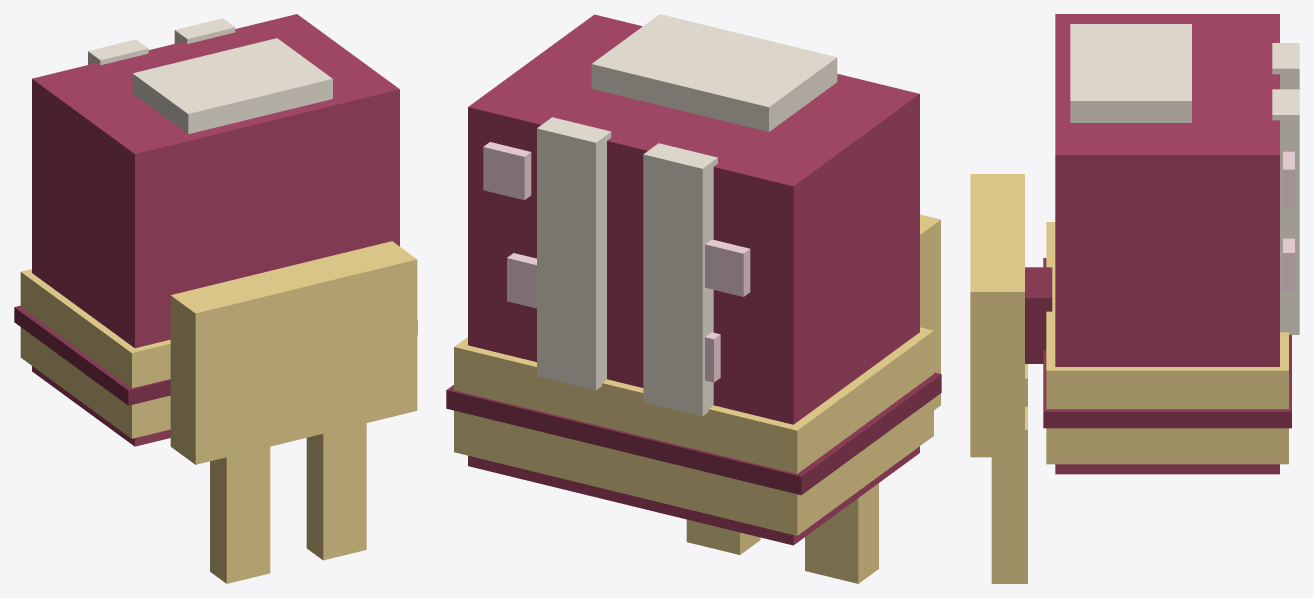
File: furisode_tronco.glb
3 renders of one model, left to right at view 1: azimuth 30°, elevation 25°; view 2: azimuth 150°, elevation 25°; view 3: azimuth 270°, elevation 25°, orthographic. The views are drawn at different scales.
Visible parts, largest first — view 1: furisode_tronco; view 2: furisode_tronco; view 3: furisode_tronco.
Boxes of the visible parts, x1,y1,x2,y2 form: furisode_tronco: (14,14,417,583); furisode_tronco: (446,14,941,583); furisode_tronco: (970,14,1299,583).
Size of the model in its own units: 0.6 by 0.88 by 0.5425.
